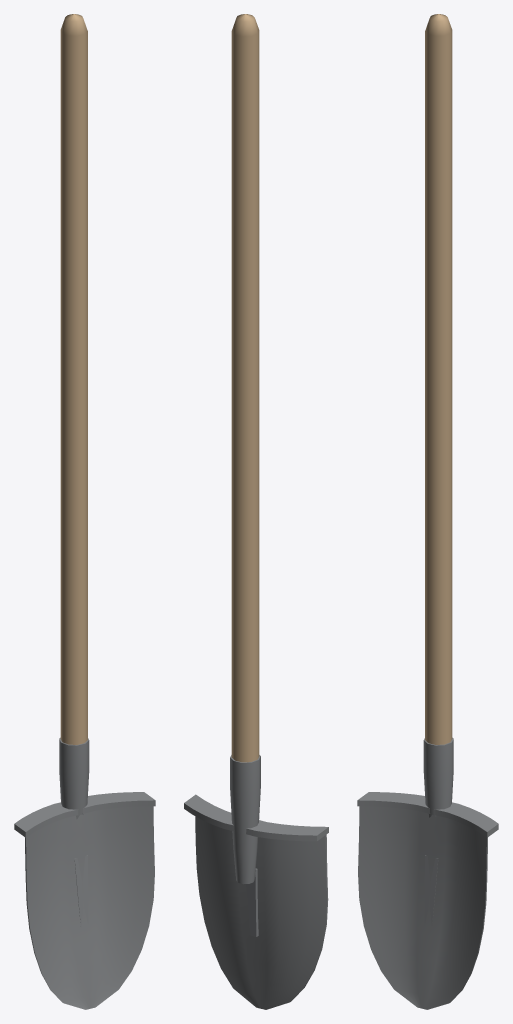
The model's file is Item_Shovel.fbx.
The picture shows the model from 3 angles, left to right: view 1: azimuth 30°, elevation 25°; view 2: azimuth 150°, elevation 25°; view 3: azimuth 330°, elevation 25°; orthographic projection. The views are drawn at different scales.
Visible parts, largest first — view 1: Item_Shovel; view 2: Item_Shovel; view 3: Item_Shovel.
Boxes of the visible parts, bbox=[...] form: Item_Shovel: bbox=[14, 14, 155, 1009]; Item_Shovel: bbox=[184, 14, 328, 1009]; Item_Shovel: bbox=[357, 14, 498, 1009].
Bounding box in the file's own units: 0.214 × 1.55 × 0.0717.
